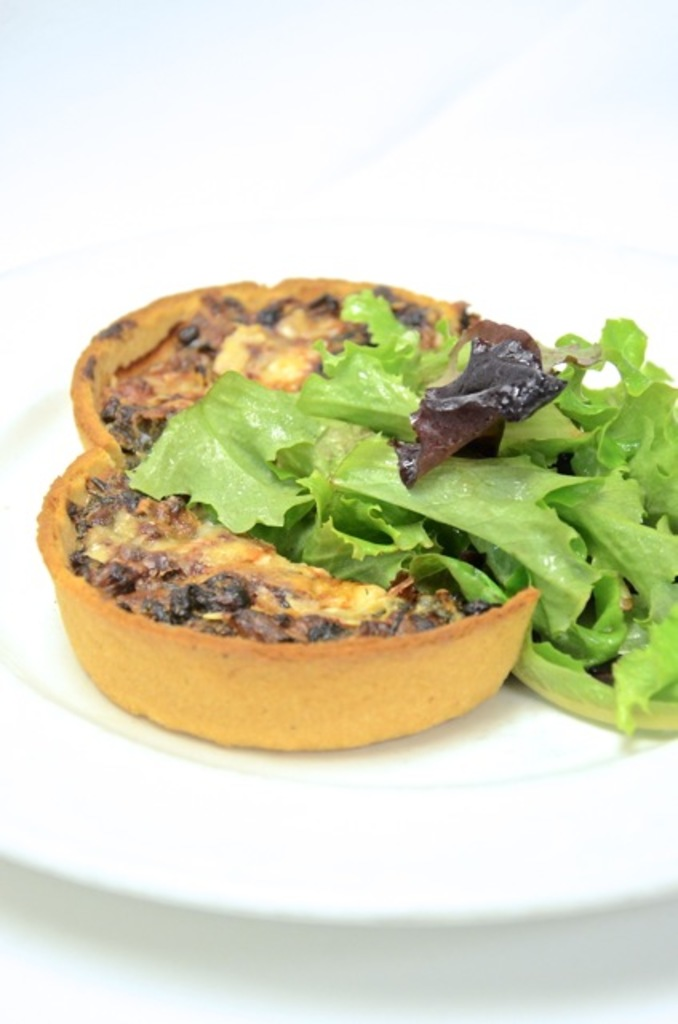Pizza: (28, 448, 561, 753), (89, 272, 537, 448)
